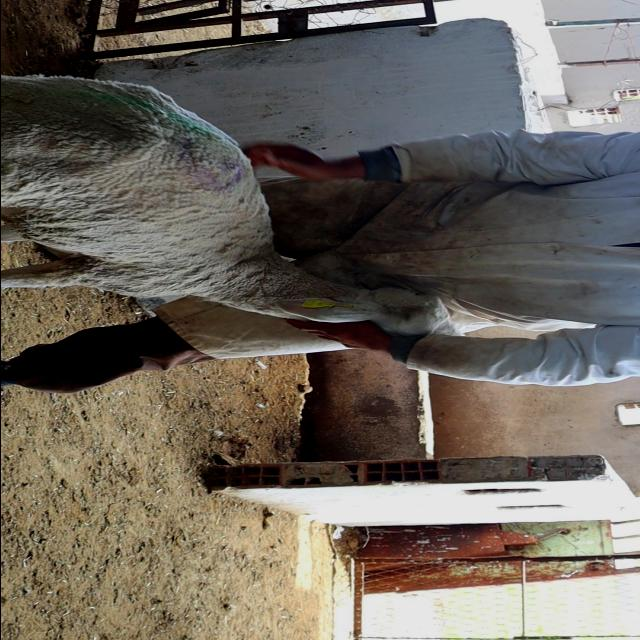Score_1: (1, 76, 458, 339)
